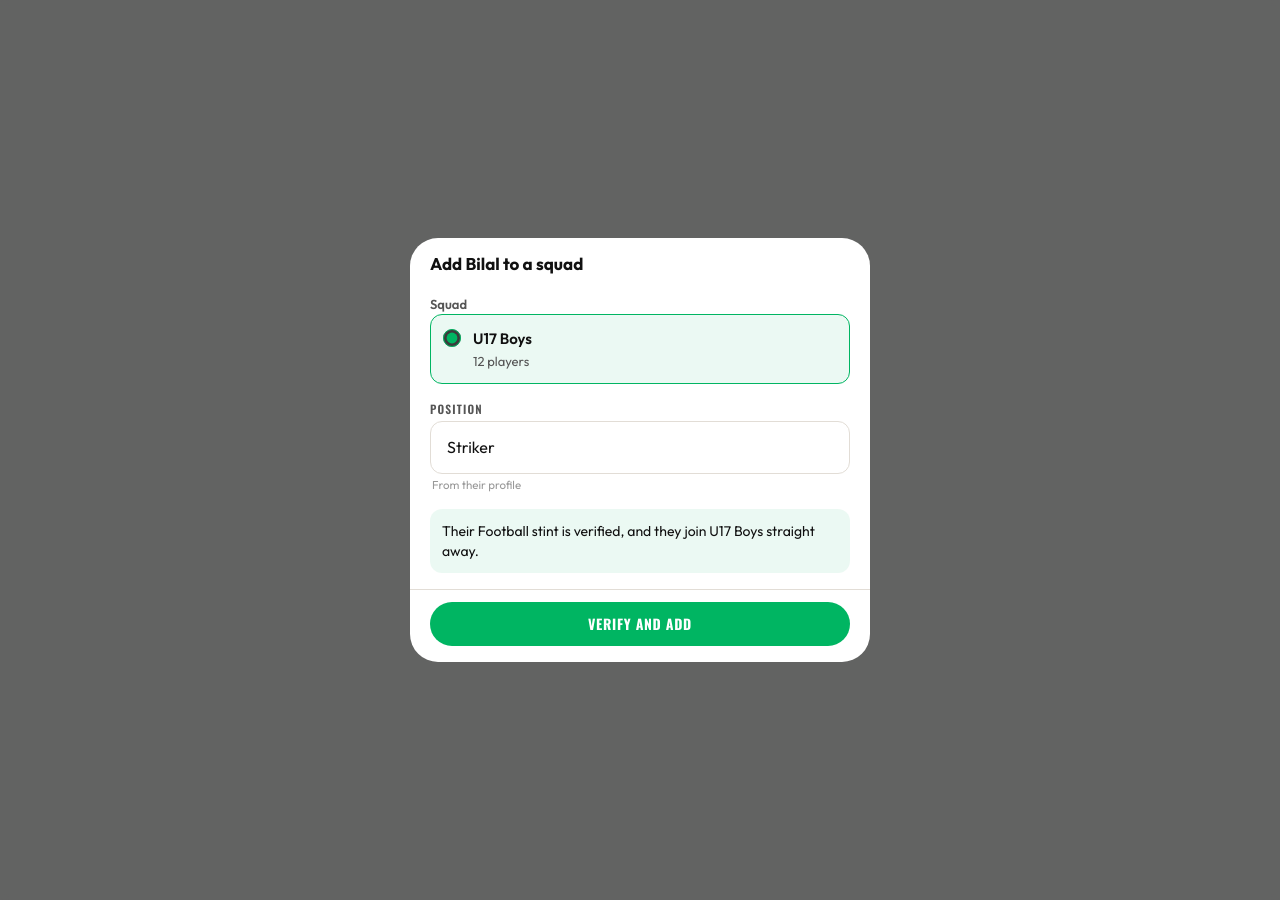
Test: VerifyIntoSquadSheet › shows the server's sentence inline for a squads code without one of its own
Click the button "Verify and add": (640, 624) [430,602,850,646]
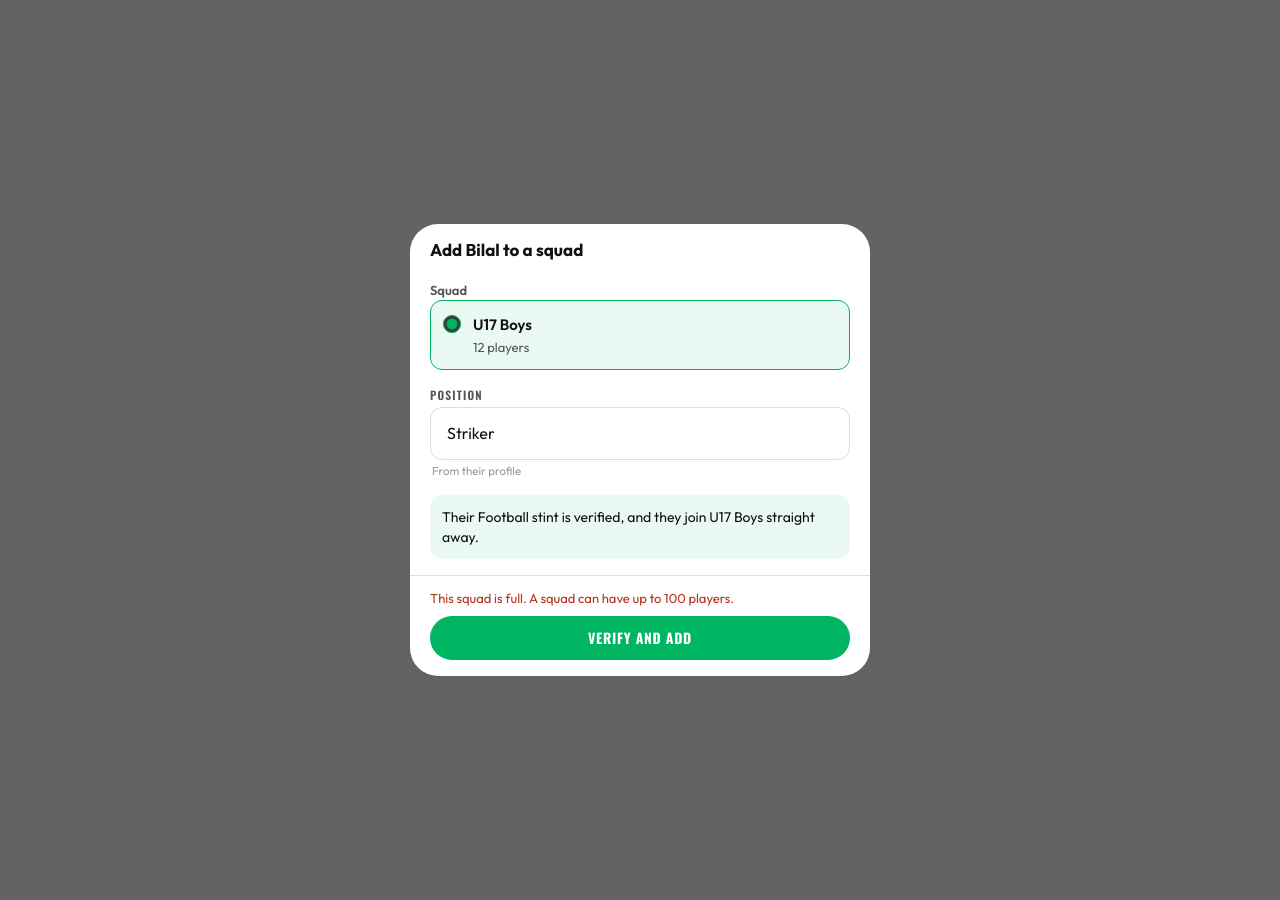
Expected: the message reads "This squad is full. A squad can have up to 100 players.", [430,590,734,606]
